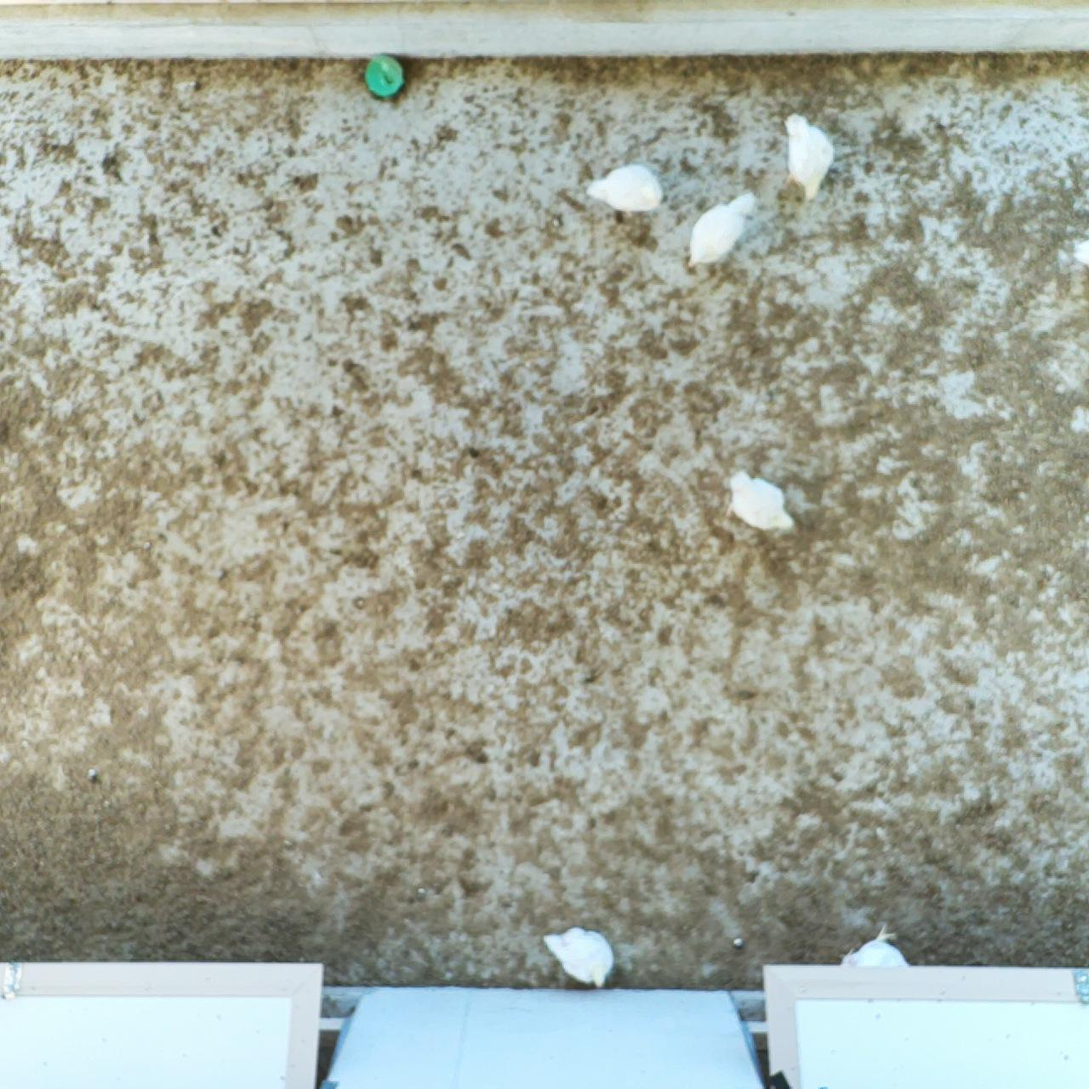chicken: (684, 187, 761, 273), (775, 107, 839, 206), (723, 465, 797, 535), (584, 160, 670, 218), (539, 924, 616, 988), (840, 919, 911, 971)
